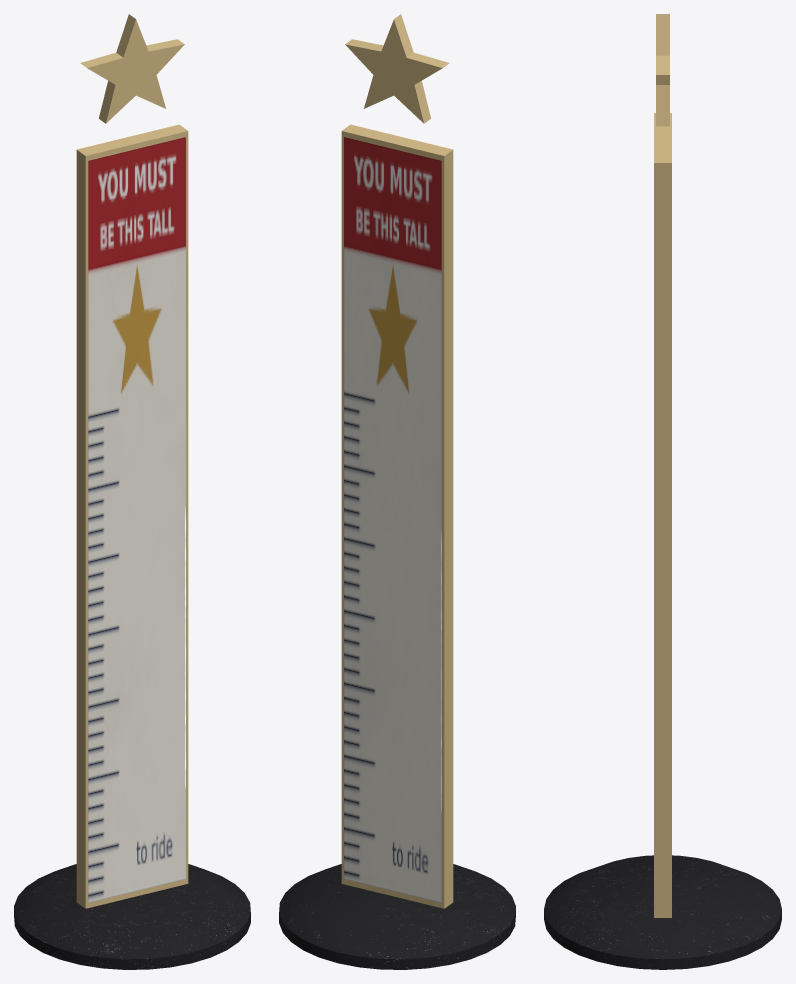
The model's file is SM_QUE_HeightCheck.fbx.
3 views of the same model, side by side, from view 1: azimuth 30°, elevation 25°; view 2: azimuth 150°, elevation 25°; view 3: azimuth 270°, elevation 25° (orthographic).
Parts seen in each view (by area): view 1: SM_QUE_HeightCheck; view 2: SM_QUE_HeightCheck; view 3: SM_QUE_HeightCheck.
Boxes of the visible parts, x1,y1,x2,y2 form: SM_QUE_HeightCheck: [14, 14, 250, 969]; SM_QUE_HeightCheck: [279, 14, 515, 969]; SM_QUE_HeightCheck: [544, 14, 781, 969].
Size of the model in its own units: 0.4 by 1.68 by 0.4.
